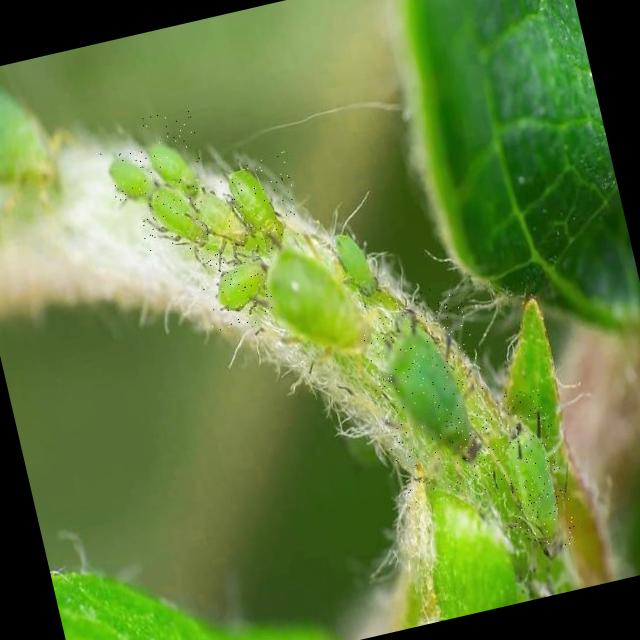aphid: (356, 282, 506, 509), (484, 384, 578, 557), (256, 232, 370, 364), (212, 144, 308, 264), (129, 168, 214, 263), (195, 238, 278, 333), (132, 103, 206, 195), (99, 142, 160, 205), (278, 171, 290, 183), (276, 150, 286, 158)
